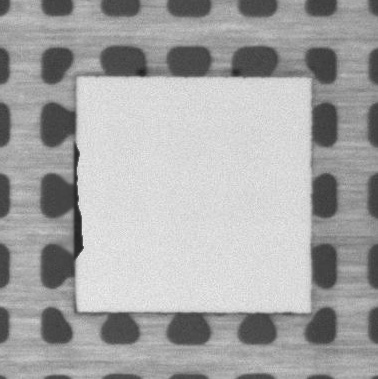DIE_BROKEN: (71, 143, 86, 264)
